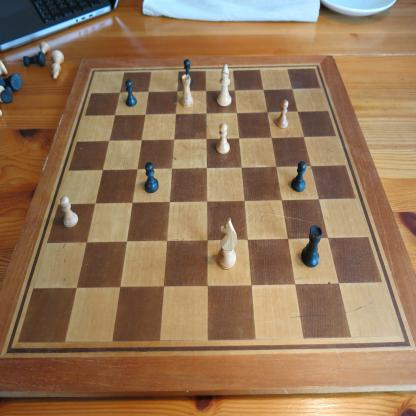black-pawn: (144, 161, 160, 195), (291, 160, 306, 192), (125, 79, 137, 108), (184, 58, 194, 86)
black-rook: (301, 225, 322, 268), (23, 50, 46, 68)
white-bishop: (216, 63, 232, 107), (51, 49, 66, 81)
white-knight: (217, 217, 237, 270)
white-pawn: (60, 195, 78, 228), (216, 122, 230, 155), (275, 99, 289, 129)
white-rook: (180, 74, 194, 108)
